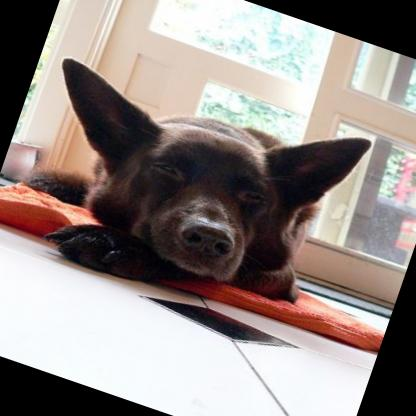kelpie: (0, 33, 372, 341)
